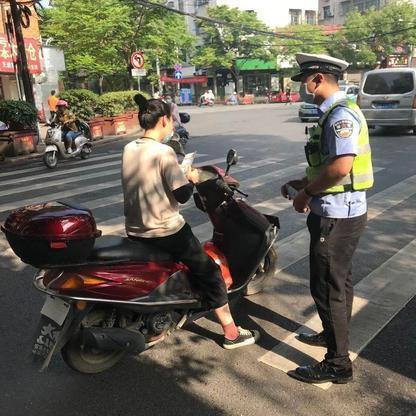target: (5, 95, 284, 373)
